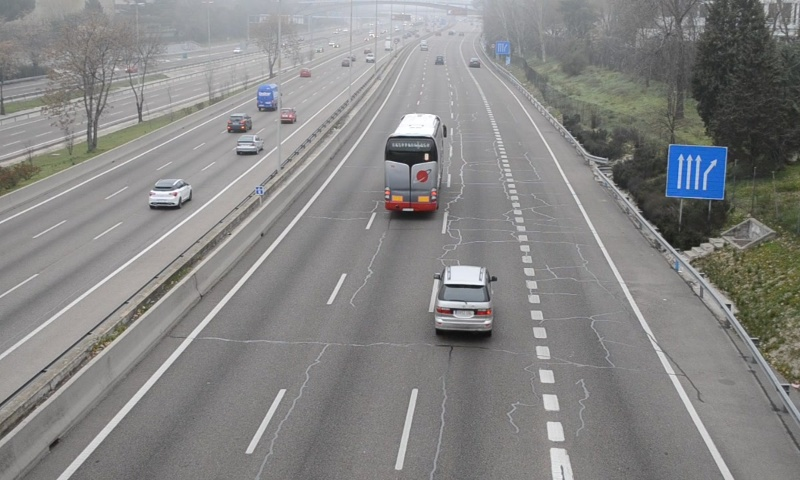bus: (383, 114, 444, 214)
car: (432, 265, 494, 334)
